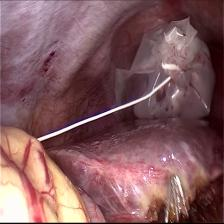Specimen Bag: (114, 14, 215, 123)
